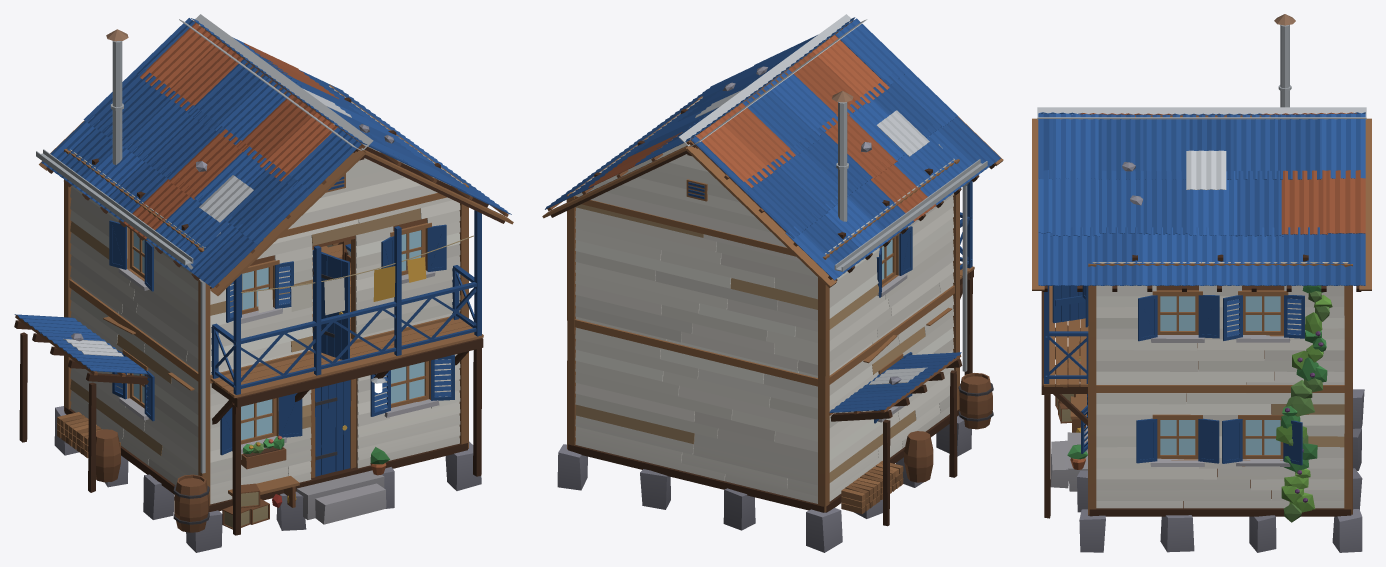
The picture shows the model from 3 angles, left to right: view 1: azimuth 30°, elevation 25°; view 2: azimuth 150°, elevation 25°; view 3: azimuth 270°, elevation 25°; orthographic projection. The views are drawn at different scales.
Visible parts, largest first — view 1: H02_WALL_S, H02_ROOF, H02_WALL_W, H02_BASE, H02_DOOR_main; view 2: H02_WALL_N, H02_ROOF, H02_WALL_W, H02_BASE, H02_WALL_S, H02_WALL_E; view 3: H02_ROOF, H02_WALL_E, H02_BASE, H02_WALL_S, H02_WALL_N.
Boxes of the visible parts, box(x1,y1,x2,y2) form: H02_WALL_S: box(199, 121, 483, 535); H02_ROOF: box(39, 14, 513, 295); H02_WALL_W: box(14, 148, 209, 532); H02_BASE: box(54, 406, 481, 552); H02_DOOR_main: box(315, 380, 350, 476); H02_WALL_N: box(566, 132, 829, 512); H02_ROOF: box(542, 14, 1003, 287); H02_WALL_W: box(823, 159, 993, 526); H02_BASE: box(557, 409, 971, 552); H02_WALL_S: box(697, 38, 974, 374); H02_WALL_E: box(567, 97, 702, 448); H02_ROOF: box(1032, 14, 1371, 291); H02_WALL_E: box(1088, 262, 1352, 522); H02_BASE: box(1050, 389, 1364, 552); H02_WALL_S: box(1041, 114, 1096, 518); H02_WALL_N: box(1344, 264, 1352, 509).
Size of the model in its own units: 6.6 by 8.15 by 5.97.
